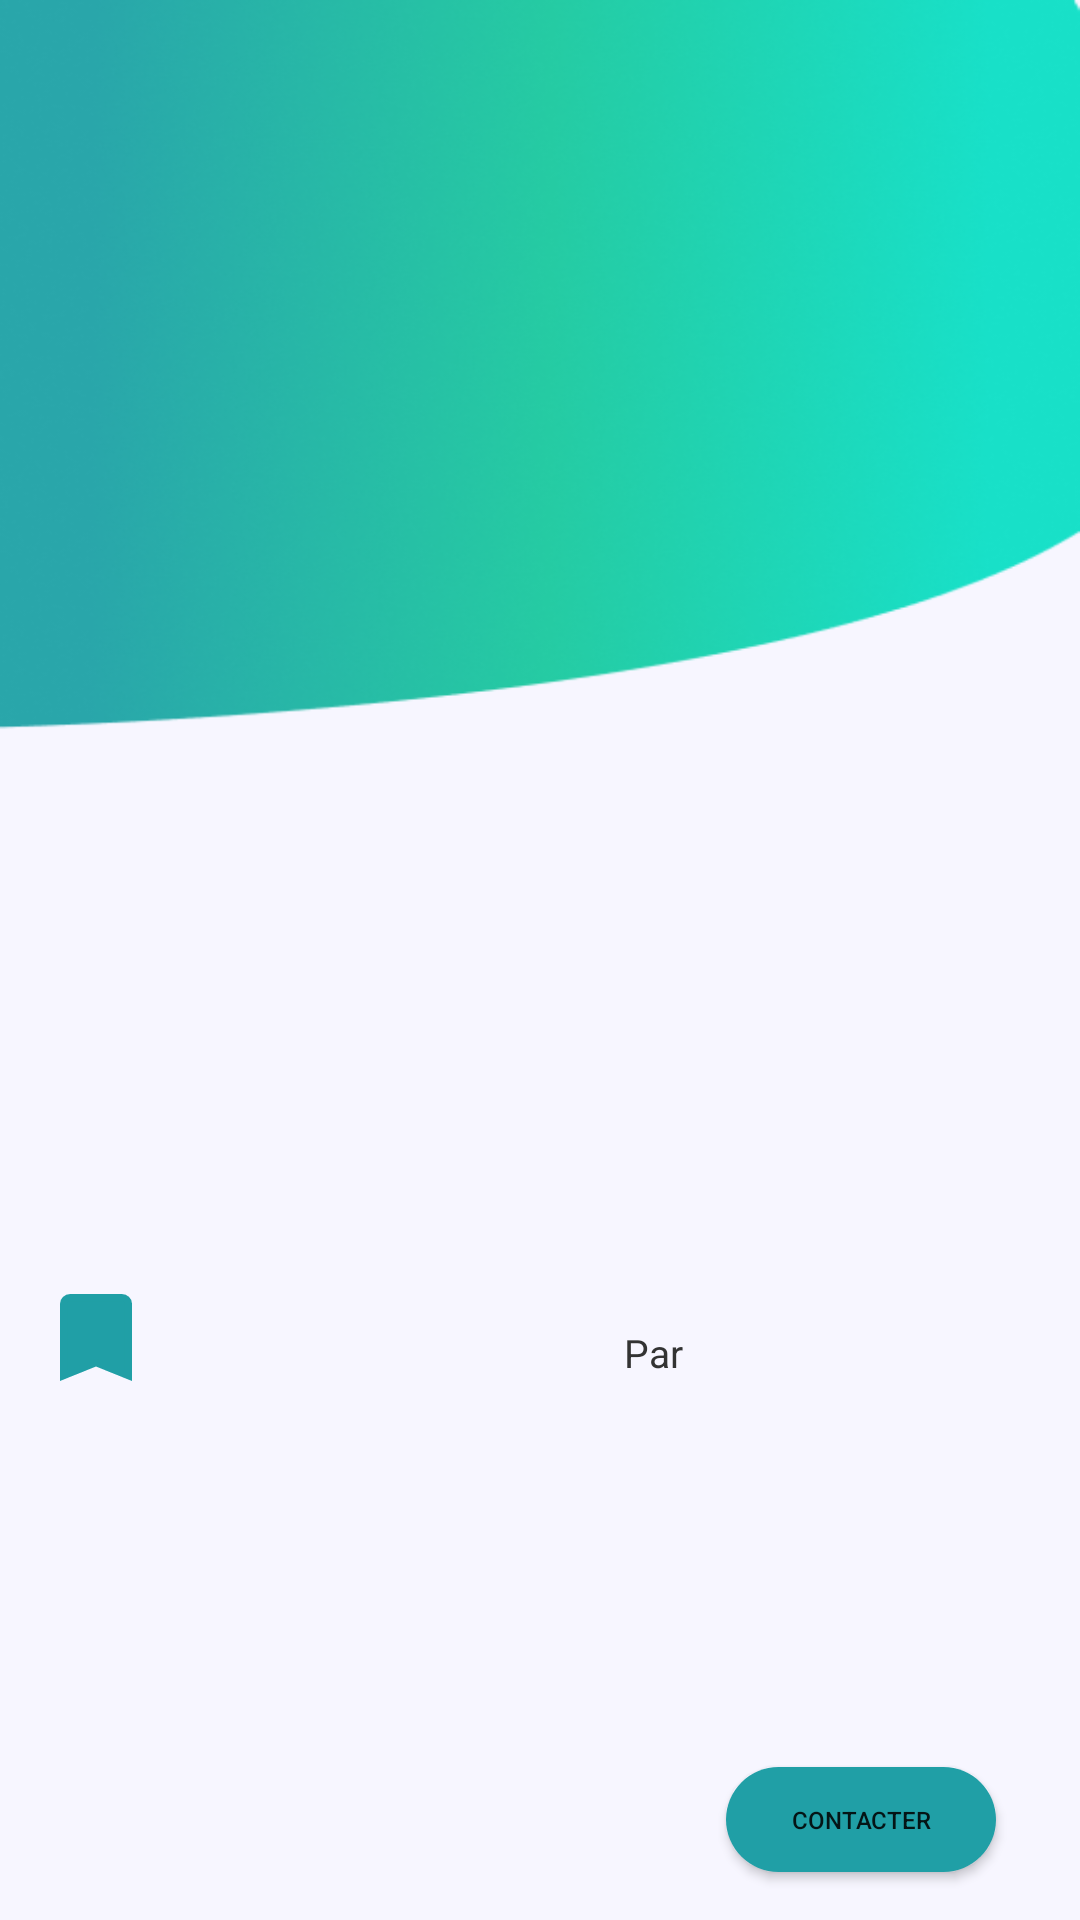

Where to tap for icons on this 1080w x 1920h app screen, as point (x, y):
save post: point (96, 1337)
